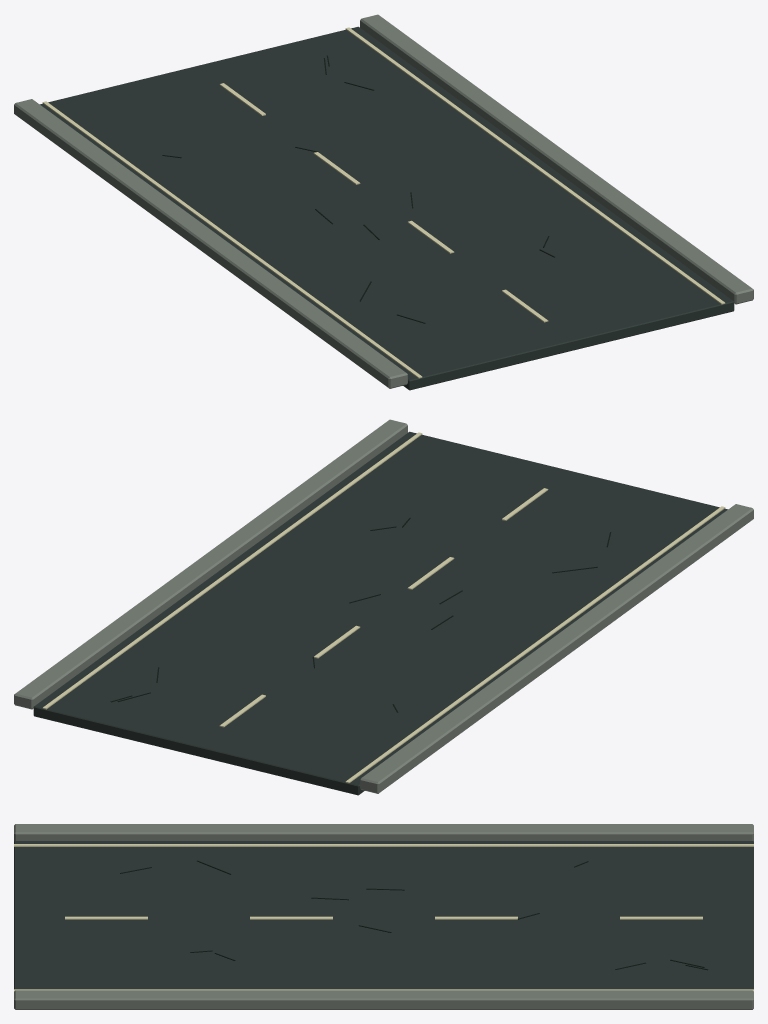
File: road.glb
3 views of the same model, one above another, from view 1: azimuth 30°, elevation 25°; view 2: azimuth 150°, elevation 25°; view 3: azimuth 270°, elevation 25° (orthographic).
Visible parts, largest first — view 1: Road, Curb, Curb.001, EdgeLine, EdgeLine.001; view 2: Road, Curb, Curb.001, EdgeLine, EdgeLine.001; view 3: Road, Curb.001, Curb, EdgeLine, EdgeLine.001, Dash, Dash.001, Dash.002, Dash.003.
Boxes of the visible parts, <box> form: Road: <box>40,26,734,390</box>; Curb: <box>14,99,407,388</box>; Curb.001: <box>360,14,753,304</box>; EdgeLine: <box>42,101,422,378</box>; EdgeLine.001: <box>345,27,725,304</box>; Road: <box>33,431,727,795</box>; Curb: <box>360,504,753,793</box>; Curb.001: <box>14,419,407,709</box>; EdgeLine: <box>345,506,725,783</box>; EdgeLine.001: <box>42,432,422,709</box>; Road: <box>14,841,753,989</box>; Curb.001: <box>14,990,753,1009</box>; Curb: <box>14,824,753,841</box>; EdgeLine: <box>14,844,753,846</box>; EdgeLine.001: <box>14,989,753,991</box>; Dash: <box>65,916,147,919</box>; Dash.001: <box>250,916,332,919</box>; Dash.002: <box>435,916,517,919</box>; Dash.003: <box>620,916,702,919</box>.
Bounding box in the file's own units: 8.98 × 0.42 × 16.
